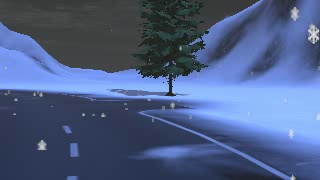Lane: (0, 88, 295, 179)
